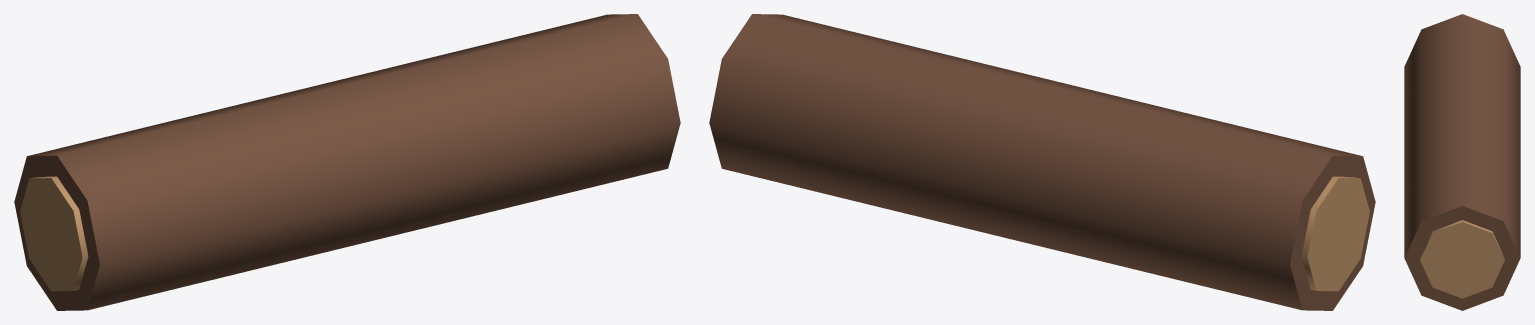
File: log.glb
3 renders of one model, left to right at view 1: azimuth 30°, elevation 25°; view 2: azimuth 150°, elevation 25°; view 3: azimuth 270°, elevation 25°, orthographic. The views are drawn at different scales.
Parts seen in each view (by area): view 1: Bark, CutEnd; view 2: Bark, CutEnd; view 3: Bark, _MeshInstance3D_149.
Part boxes in pixels (left/top/right/bottom): Bark: left=14, top=14, right=680, bottom=310; CutEnd: left=20, top=176, right=88, bottom=291; Bark: left=709, top=14, right=1375, bottom=310; CutEnd: left=1301, top=176, right=1369, bottom=291; Bark: left=1404, top=14, right=1520, bottom=310; _MeshInstance3D_149: left=1420, top=220, right=1504, bottom=298.
Size of the model in its own units: 0.918 by 0.23 by 0.23.
